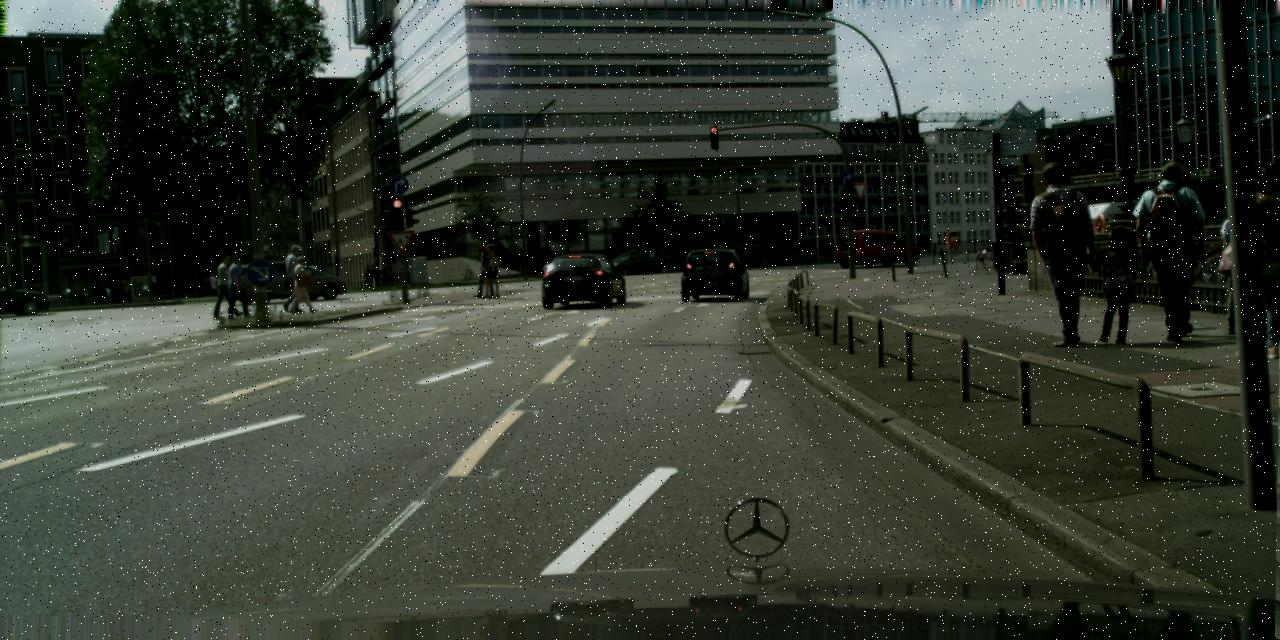ped: (1025, 161, 1101, 347), (1140, 161, 1212, 338), (1218, 166, 1279, 356), (1210, 200, 1266, 336), (1092, 225, 1140, 344), (280, 244, 308, 311), (214, 254, 240, 318), (225, 254, 251, 318), (472, 240, 495, 298), (290, 255, 313, 312), (480, 243, 501, 298), (368, 256, 380, 286), (206, 270, 218, 300), (363, 260, 374, 288), (68, 291, 78, 301), (70, 303, 76, 306)
